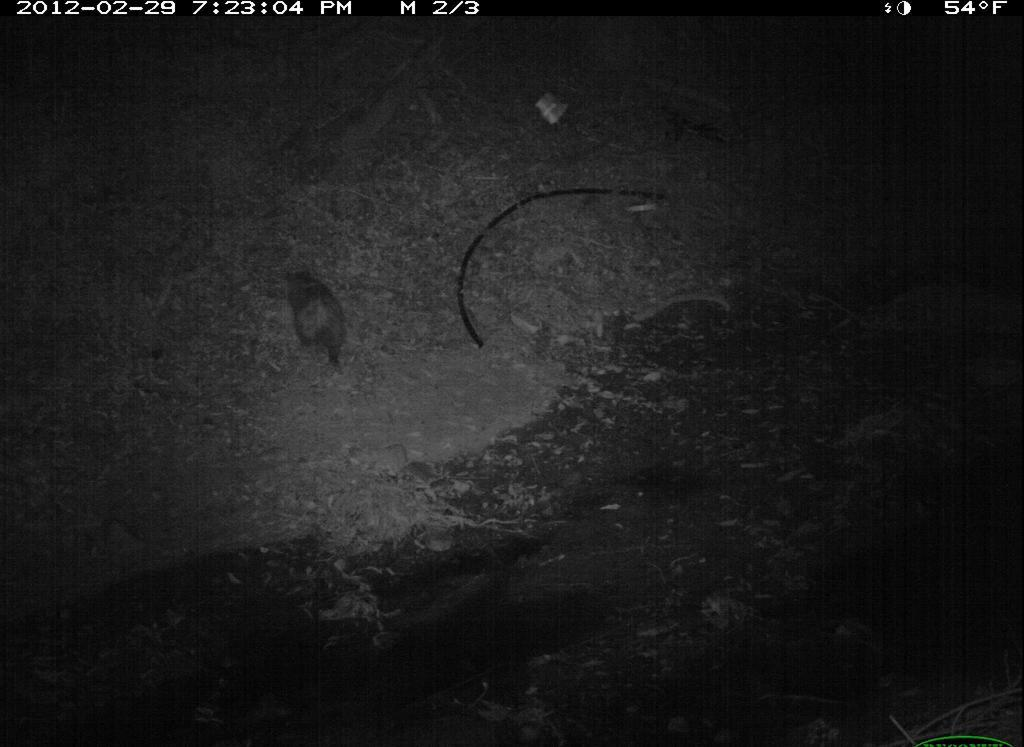opossum: (281, 254, 350, 382)
